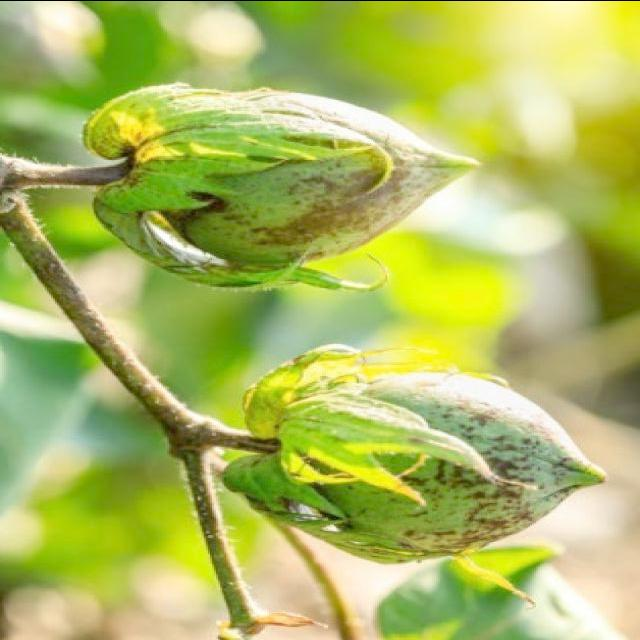Early Boll: (99, 64, 453, 306), (237, 346, 607, 563)
